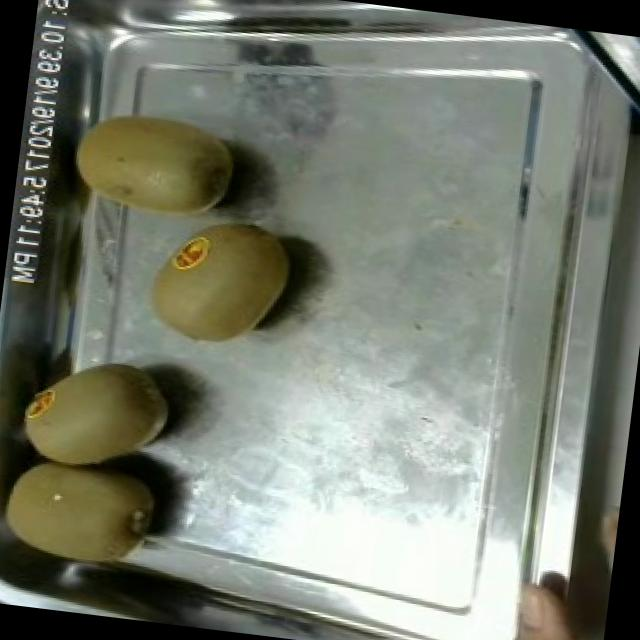Fruit: (132, 200, 302, 362), (58, 94, 250, 237), (4, 340, 188, 480), (0, 455, 181, 591)
